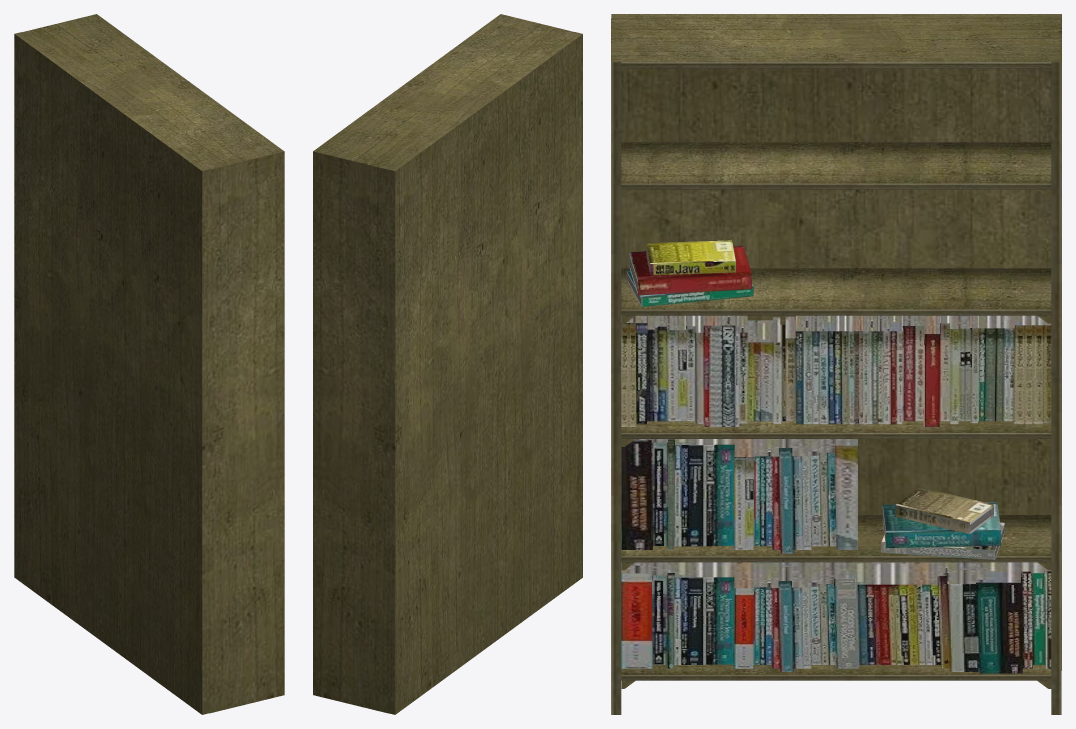
The model's file is Bookshelf2.glb.
3 renders of one model, left to right at view 1: azimuth 30°, elevation 25°; view 2: azimuth 150°, elevation 25°; view 3: azimuth 270°, elevation 25°, orthographic. The views are drawn at different scales.
Visible parts, largest first — view 1: 0_Bookshelf1; view 2: 0_Bookshelf1; view 3: 0_Bookshelf1.
Boxes of the visible parts, x1,y1,x2,y2 form: 0_Bookshelf1: [14, 14, 284, 714]; 0_Bookshelf1: [313, 14, 582, 714]; 0_Bookshelf1: [611, 14, 1061, 714].
Size of the model in its own units: 0.3559 by 2.14 by 1.34.
1 material, 1 textured.
